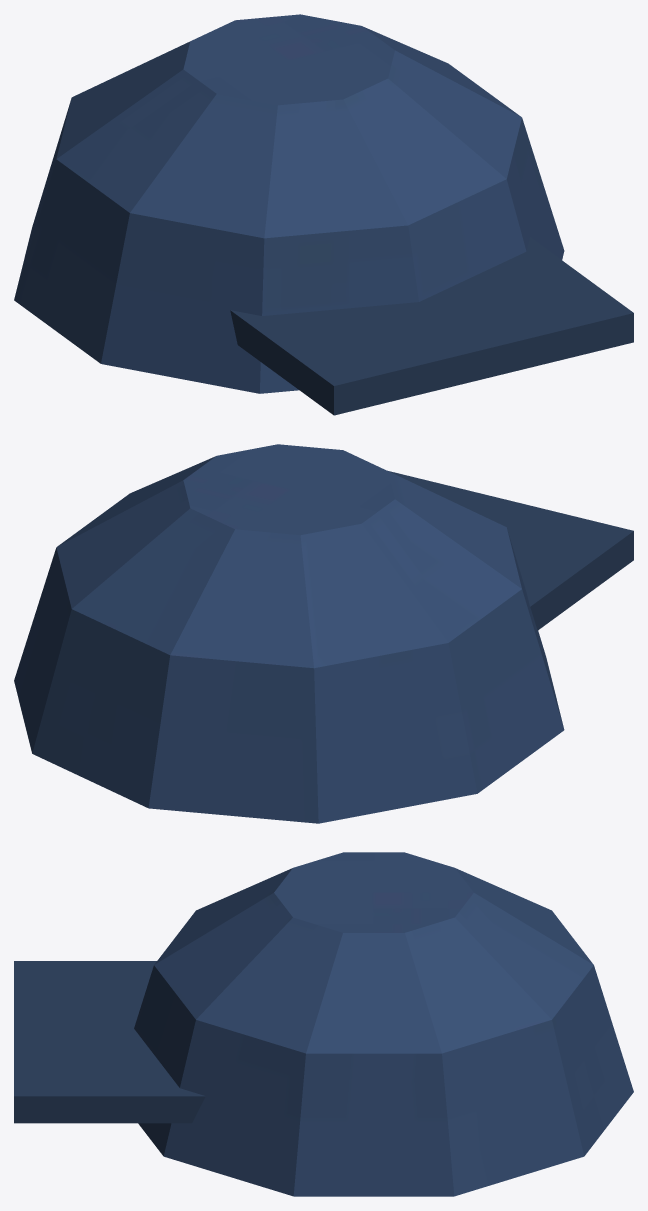
The model's file is acc_cap.glb.
3 renders of one model, top to bottom at view 1: azimuth 30°, elevation 25°; view 2: azimuth 150°, elevation 25°; view 3: azimuth 270°, elevation 25°, orthographic. The views are drawn at different scales.
Parts seen in each view (by area): view 1: acc_cap; view 2: acc_cap; view 3: acc_cap.
Boxes of the visible parts, x1=… form: acc_cap: x1=14, y1=14, x2=633, y2=415; acc_cap: x1=14, y1=444, x2=633, y2=823; acc_cap: x1=14, y1=852, x2=633, y2=1196.
Bounding box in the file's own units: 0.2473 × 0.11 × 0.31.
2 materials, 2 textured.
